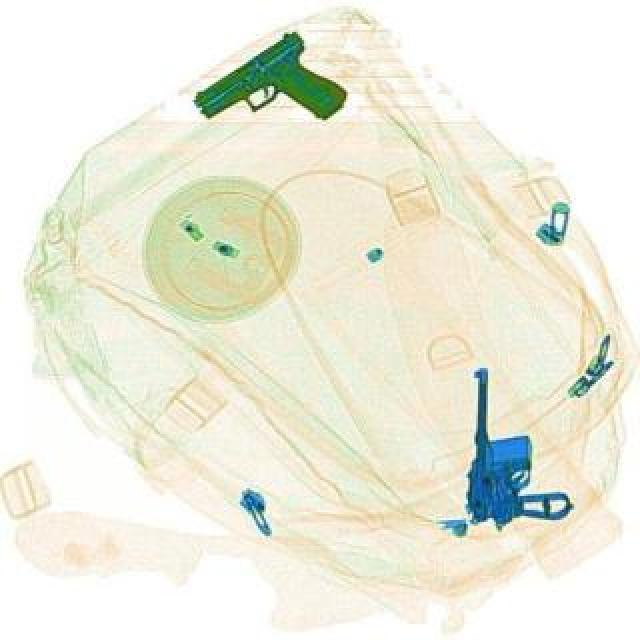gun: (188, 28, 360, 176), (466, 370, 584, 538)
